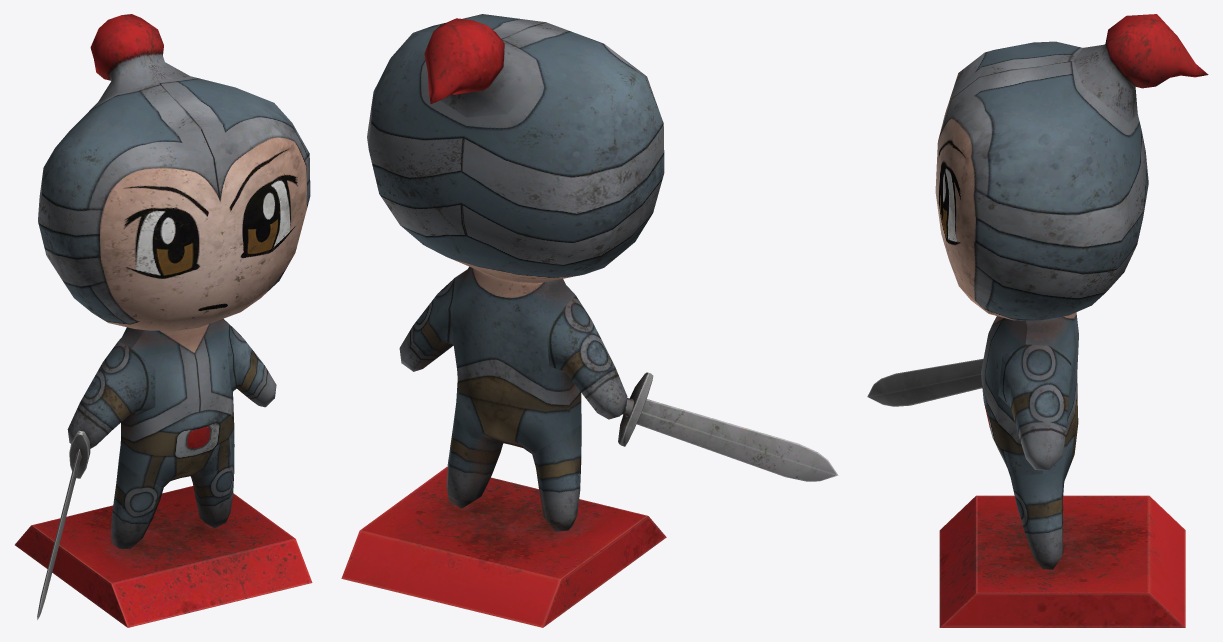
Rendered from figurine01.dae.
3 renders of one model, left to right at view 1: azimuth 30°, elevation 25°; view 2: azimuth 150°, elevation 25°; view 3: azimuth 270°, elevation 25°, orthographic. The views are drawn at different scales.
Parts seen in each view (by area): view 1: polymsh1; view 2: polymsh1; view 3: polymsh1.
Boxes of the visible parts, bbox=[...] form: polymsh1: bbox=[15, 14, 312, 627]; polymsh1: bbox=[341, 14, 838, 627]; polymsh1: bbox=[867, 14, 1208, 627].
Size of the model in its own units: 20.34 by 29.86 by 16.45.
